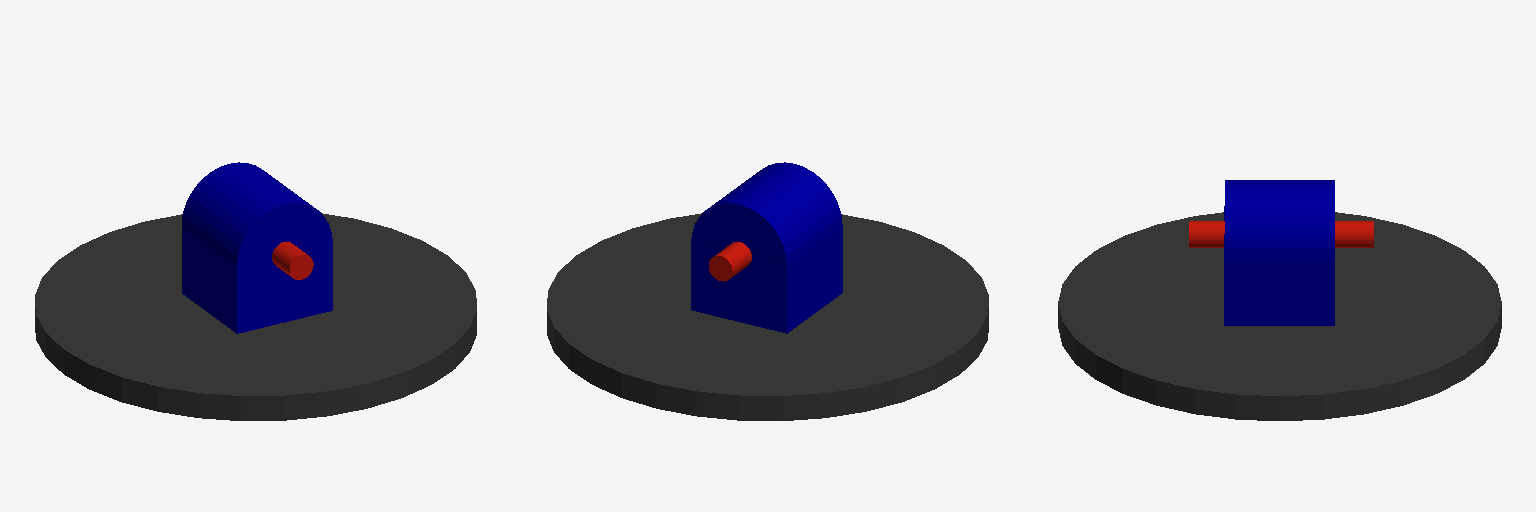
The model's file is robot_base.obj.
The picture shows the model from 3 angles: view 1: azimuth 30°, elevation 25°; view 2: azimuth 150°, elevation 25°; view 3: azimuth 270°, elevation 25°; orthographic projection.
Visible parts, largest first — view 1: Base; view 2: Base; view 3: Base.
Boxes of the visible parts, box(x1,y1,x2,y2) form: Base: box(35, 162, 476, 420); Base: box(547, 162, 988, 420); Base: box(1058, 180, 1501, 420).
Bounding box in the file's own units: 8 × 2.85 × 8.